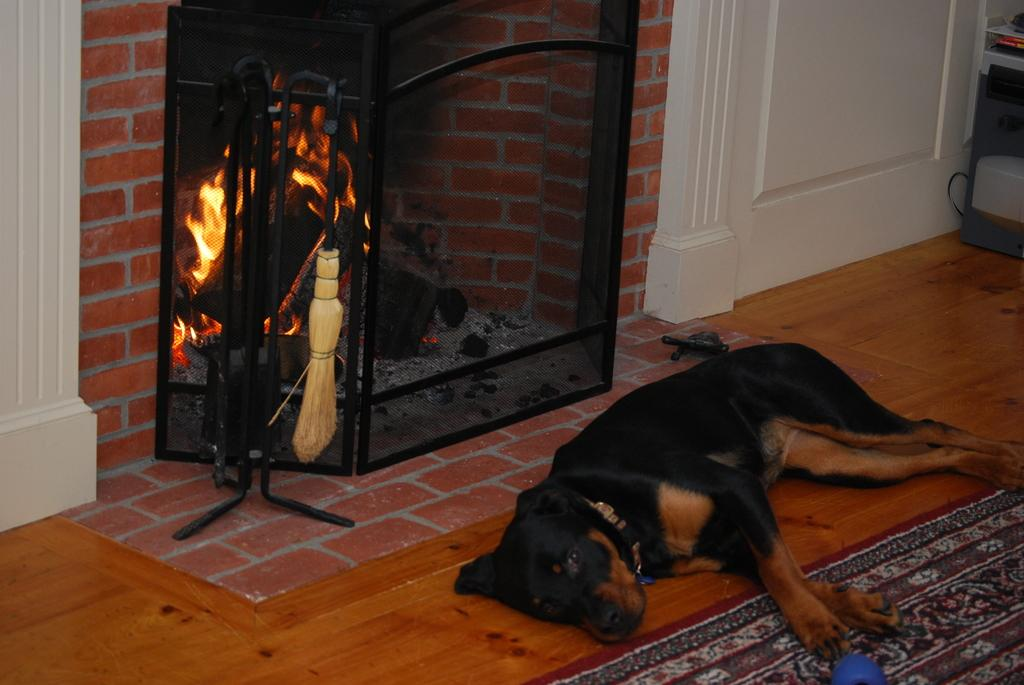Fire: (168, 94, 352, 357)
